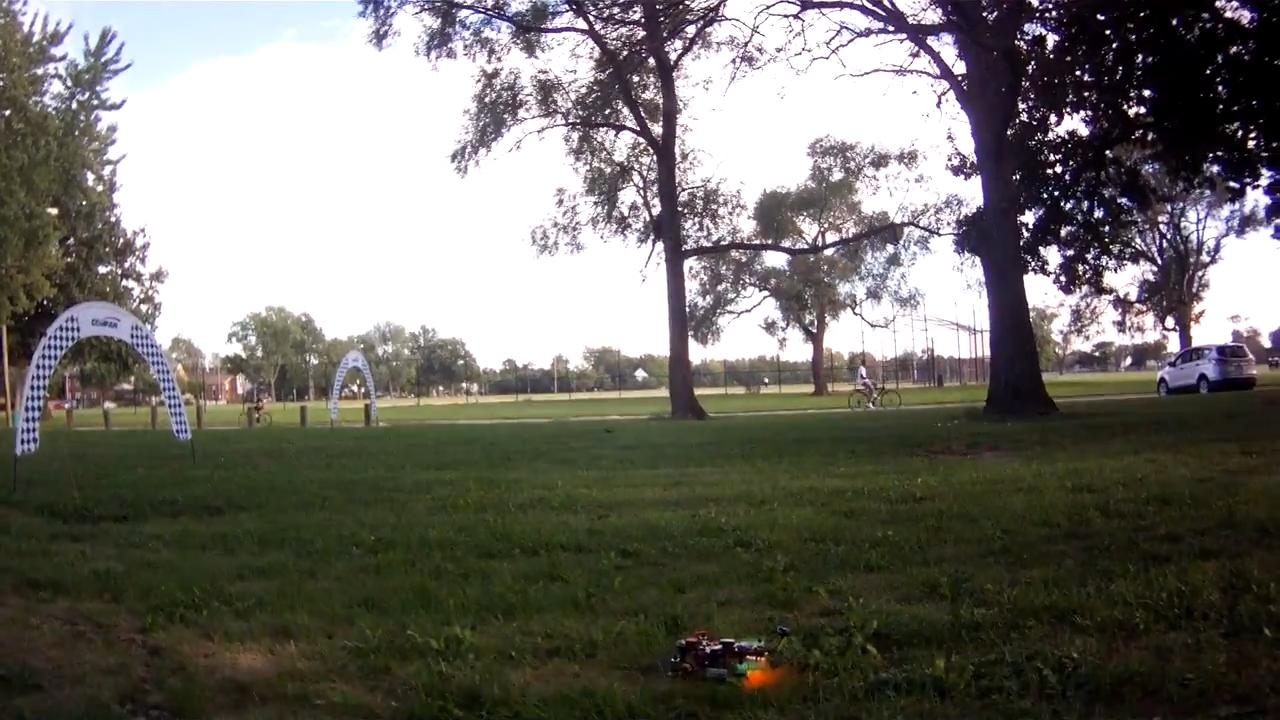gate: (12, 299, 195, 460)
